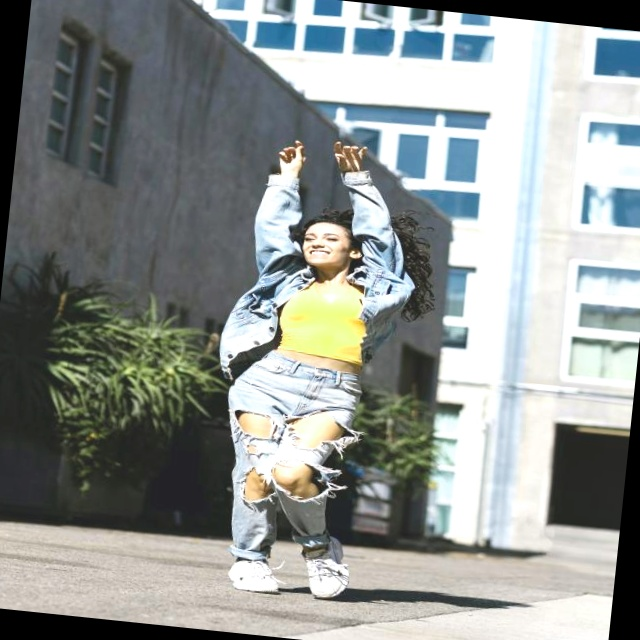Crop_Top: (278, 298, 373, 376)
low_neckline: (275, 271, 373, 364)
ripped_pants: (215, 353, 362, 565)
